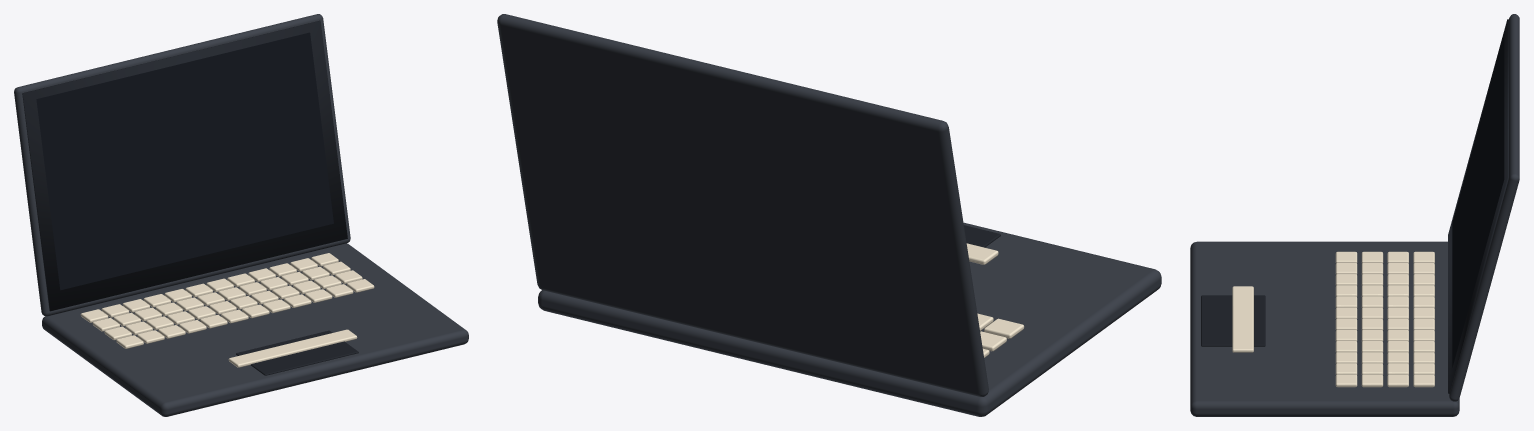
Rendered from laptop.glb.
The picture shows the model from 3 angles, left to right: view 1: azimuth 30°, elevation 25°; view 2: azimuth 150°, elevation 25°; view 3: azimuth 270°, elevation 25°; orthographic projection. The views are drawn at different scales.
Visible parts, largest first — view 1: Screen, LaptopBase, LaptopBezel, LaptopKeys, LaptopLid, LaptopPad; view 2: LaptopLid, LaptopBase, LaptopKeys; view 3: LaptopBase, LaptopKeys, Screen, LaptopLid, LaptopBezel, LaptopPad.
Part boxes in pixels (box(x1,y1,x2,y2)): Screen: box(36, 32, 333, 290); LaptopBase: box(42, 243, 468, 416); LaptopBezel: box(22, 20, 347, 311); LaptopKeys: box(80, 253, 374, 367); LaptopLid: box(14, 14, 350, 316); LaptopPad: box(236, 330, 358, 375); LaptopLid: box(497, 14, 988, 396); LaptopBase: box(538, 222, 1161, 416); LaptopKeys: box(966, 243, 1024, 357); LaptopBase: box(1190, 241, 1459, 416); LaptopKeys: box(1232, 251, 1434, 387); Screen: box(1452, 34, 1504, 367); LaptopLid: box(1449, 14, 1519, 401); LaptopBezel: box(1448, 19, 1508, 393); LaptopPad: box(1201, 295, 1265, 346).
Size of the model in its own units: 0.36 by 0.2489 by 0.3057.
